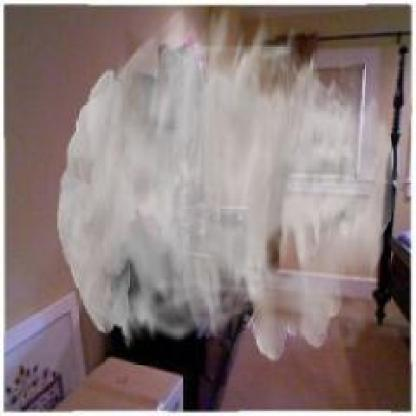Smoke: (57, 3, 395, 362)
